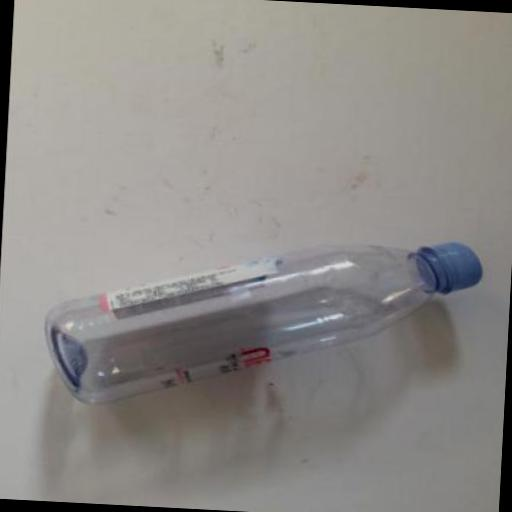plastic: (39, 220, 482, 424), (410, 240, 482, 294)
